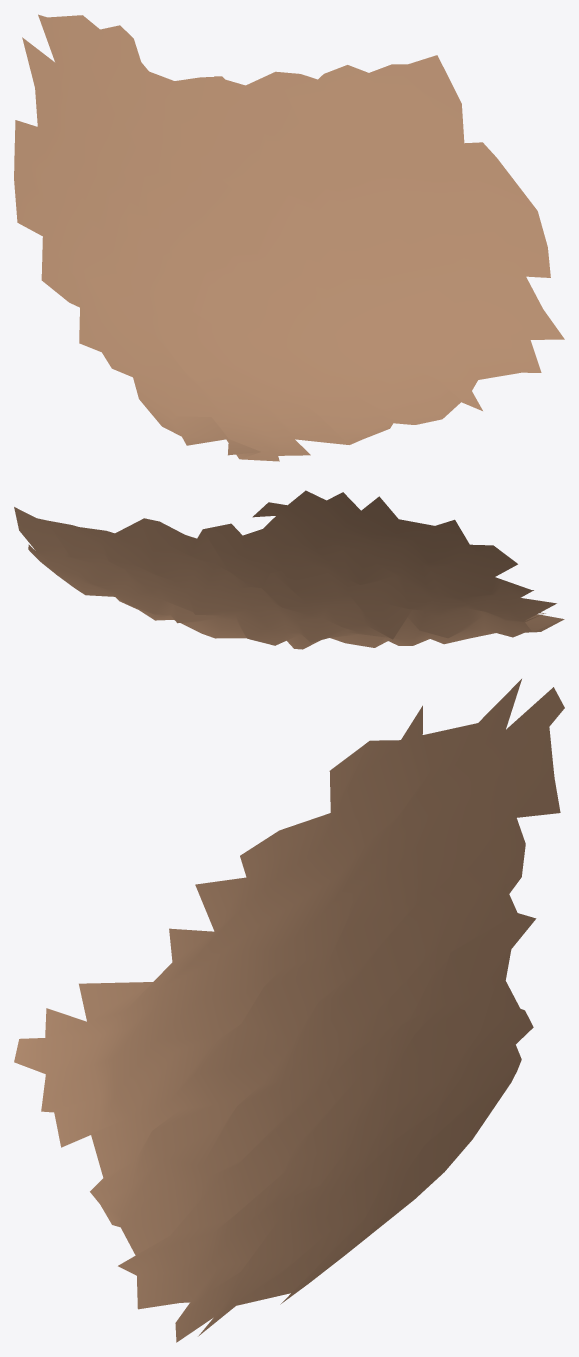
Rendered from pottery_fragment_028.obj.
3 renders of one model, top to bottom at view 1: azimuth 30°, elevation 25°; view 2: azimuth 150°, elevation 25°; view 3: azimuth 270°, elevation 25°, orthographic. The views are drawn at different scales.
Bounding box in the file's own units: 25.03 × 15.79 × 17.7.
